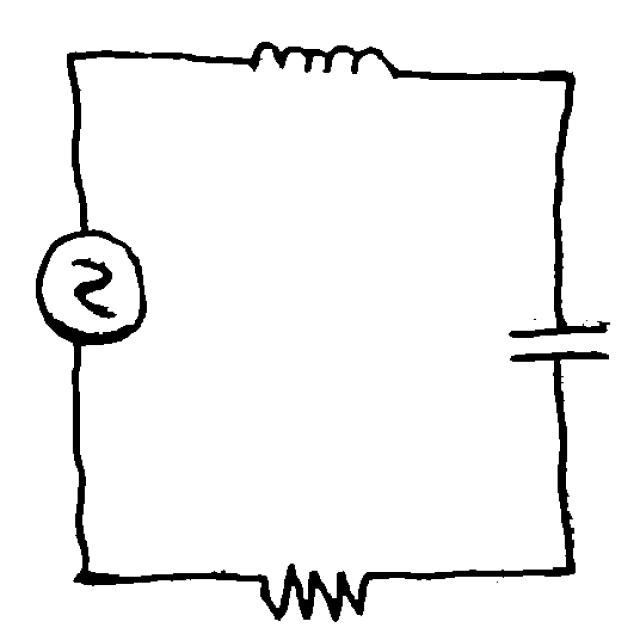ac: (29, 212, 158, 350)
capacitor: (490, 303, 624, 373)
inductor: (233, 31, 408, 94)
resistor: (234, 555, 385, 629)
